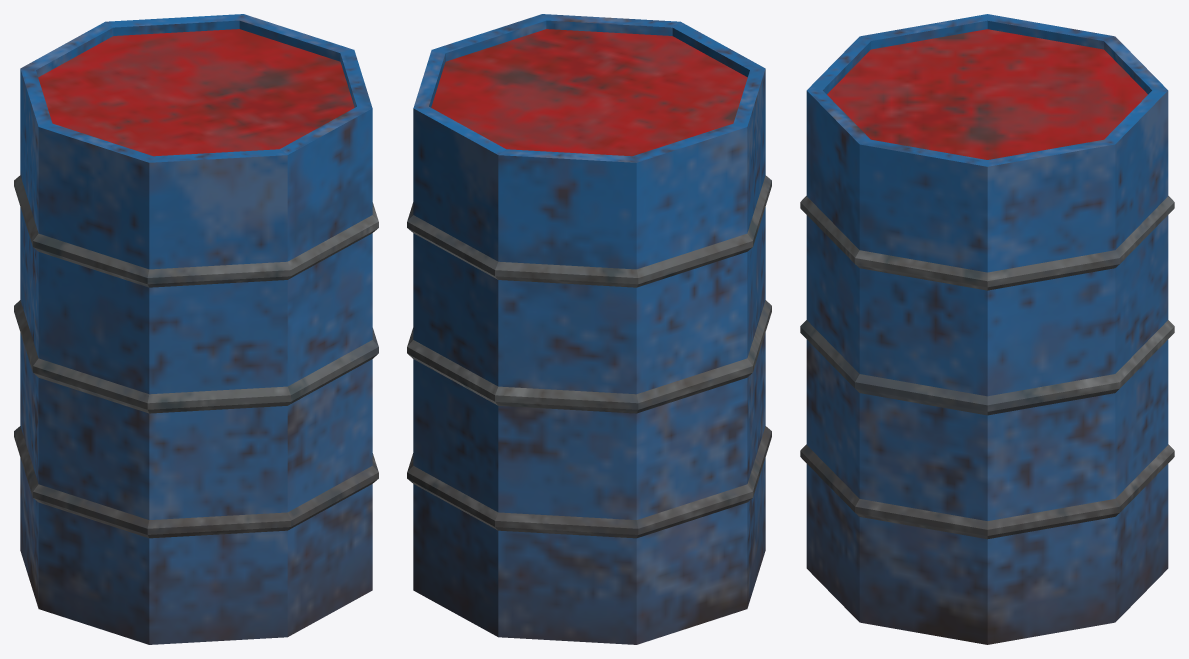
Rendered from Barrel2_SM.fbx.
3 renders of one model, left to right at view 1: azimuth 30°, elevation 25°; view 2: azimuth 150°, elevation 25°; view 3: azimuth 270°, elevation 25°, orthographic.
Visible parts, largest first — view 1: wadaw001; view 2: wadaw001; view 3: wadaw001.
Boxes of the visible parts, left/top/right/bottom form: wadaw001: left=14, top=14, right=378, bottom=644; wadaw001: left=407, top=14, right=771, bottom=644; wadaw001: left=800, top=14, right=1174, bottom=644.
Size of the model in its own units: 80.74 by 114 by 80.74.
